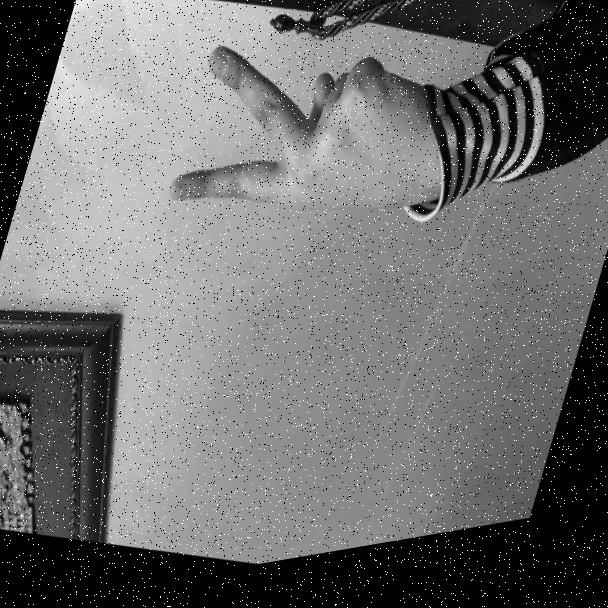two: (146, 0, 528, 327)
